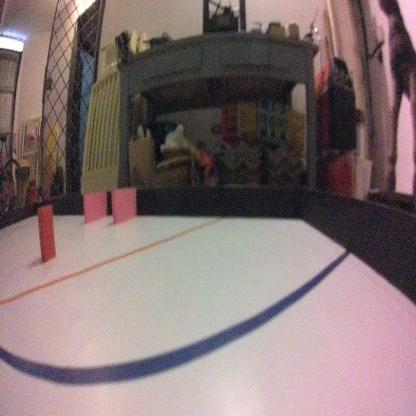magenta: (110, 185, 136, 226), (82, 188, 106, 224)
red: (37, 198, 60, 272)
